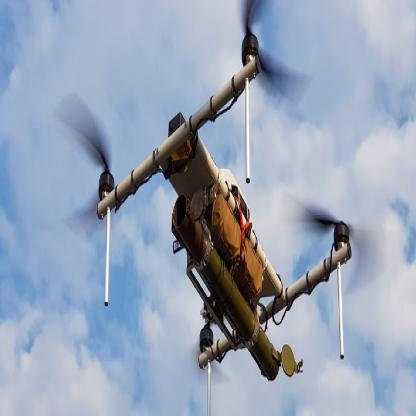drone: (59, 58, 376, 400)
